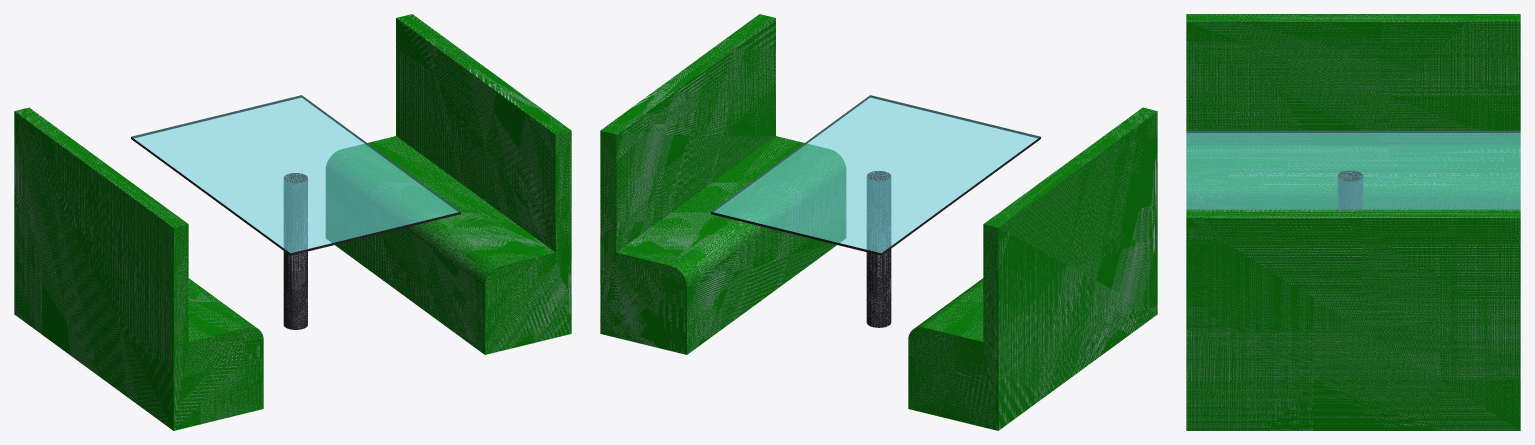
File: table.dae
3 renders of one model, left to right at view 1: azimuth 30°, elevation 25°; view 2: azimuth 150°, elevation 25°; view 3: azimuth 270°, elevation 25°, orthographic. The views are drawn at different scales.
Parts seen in each view (by area): view 1: SketchUp (×6); view 2: SketchUp (×6); view 3: SketchUp (×6).
Part boxes in pixels (x1=…): SketchUp (×6): x1=14, y1=14, x2=571, y2=430; SketchUp (×6): x1=600, y1=14, x2=1157, y2=430; SketchUp (×6): x1=1186, y1=14, x2=1520, y2=430.
Bounding box in the file's own units: 141 × 97.49 × 68.57.
